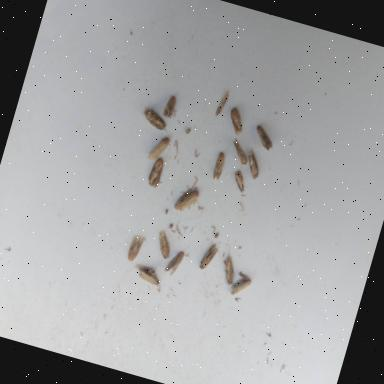pbw: (218, 246, 244, 286), (138, 105, 173, 133), (174, 182, 202, 216), (152, 230, 180, 262), (147, 132, 173, 164), (242, 148, 266, 182), (146, 156, 168, 190), (197, 240, 220, 272), (224, 106, 248, 136), (132, 263, 163, 286), (252, 125, 278, 152), (228, 138, 253, 166), (162, 248, 185, 278), (126, 234, 146, 264), (228, 276, 252, 300), (210, 152, 228, 182), (230, 169, 250, 194), (161, 94, 178, 119)
